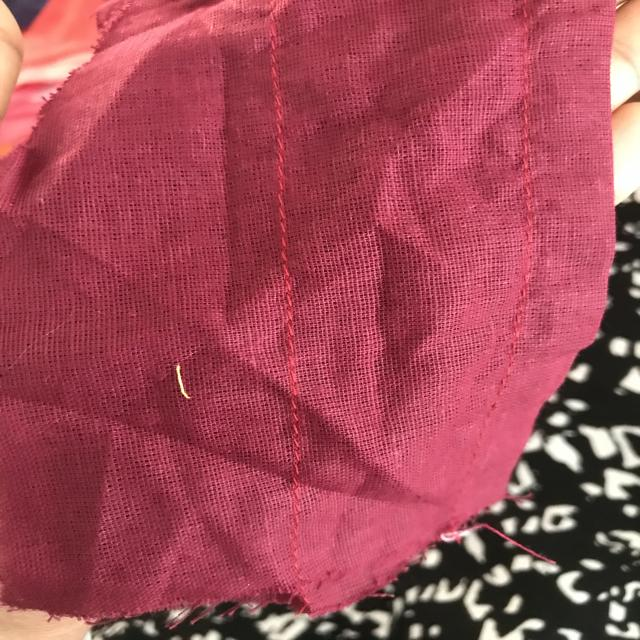good: (254, 188, 311, 264)
